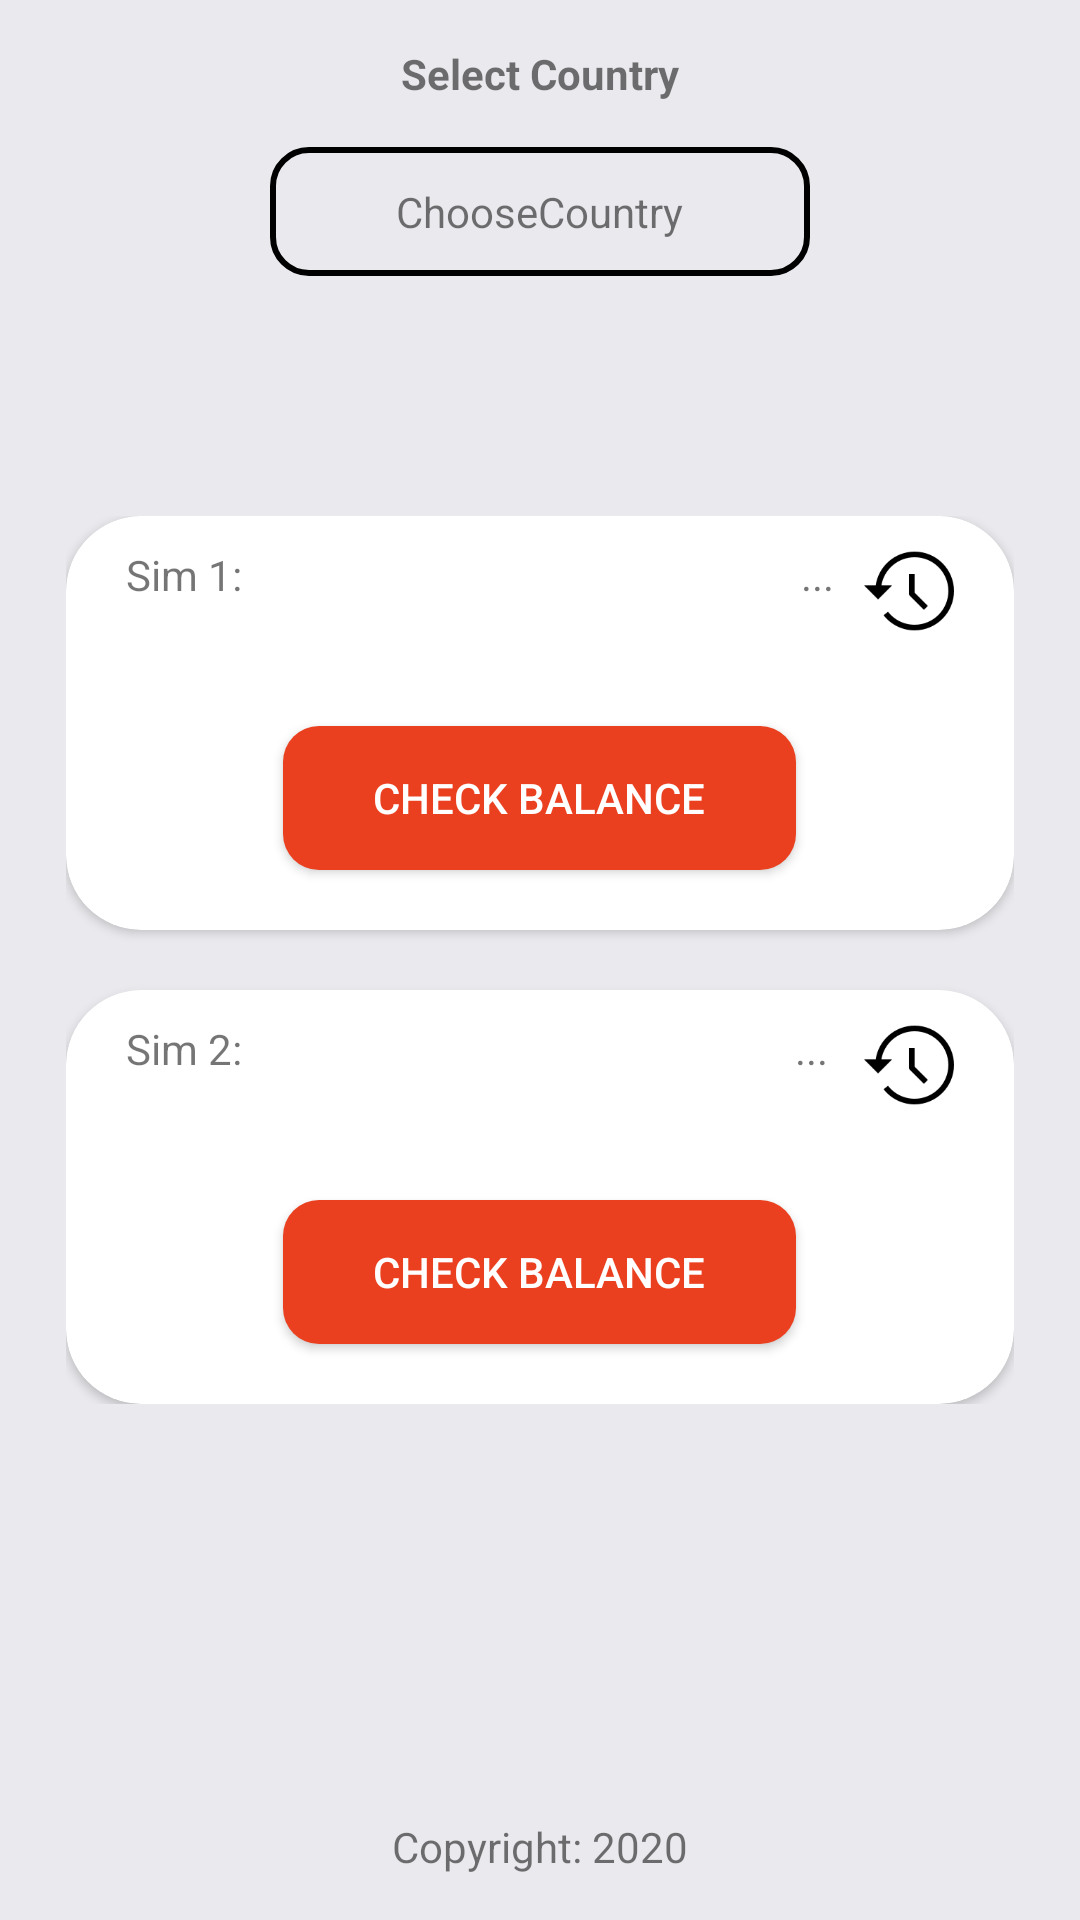

Icons on this 1080×1920 Android screen, each with the point to tap as (x=x, y=y):
history: (x=909, y=591), (x=909, y=1065)
